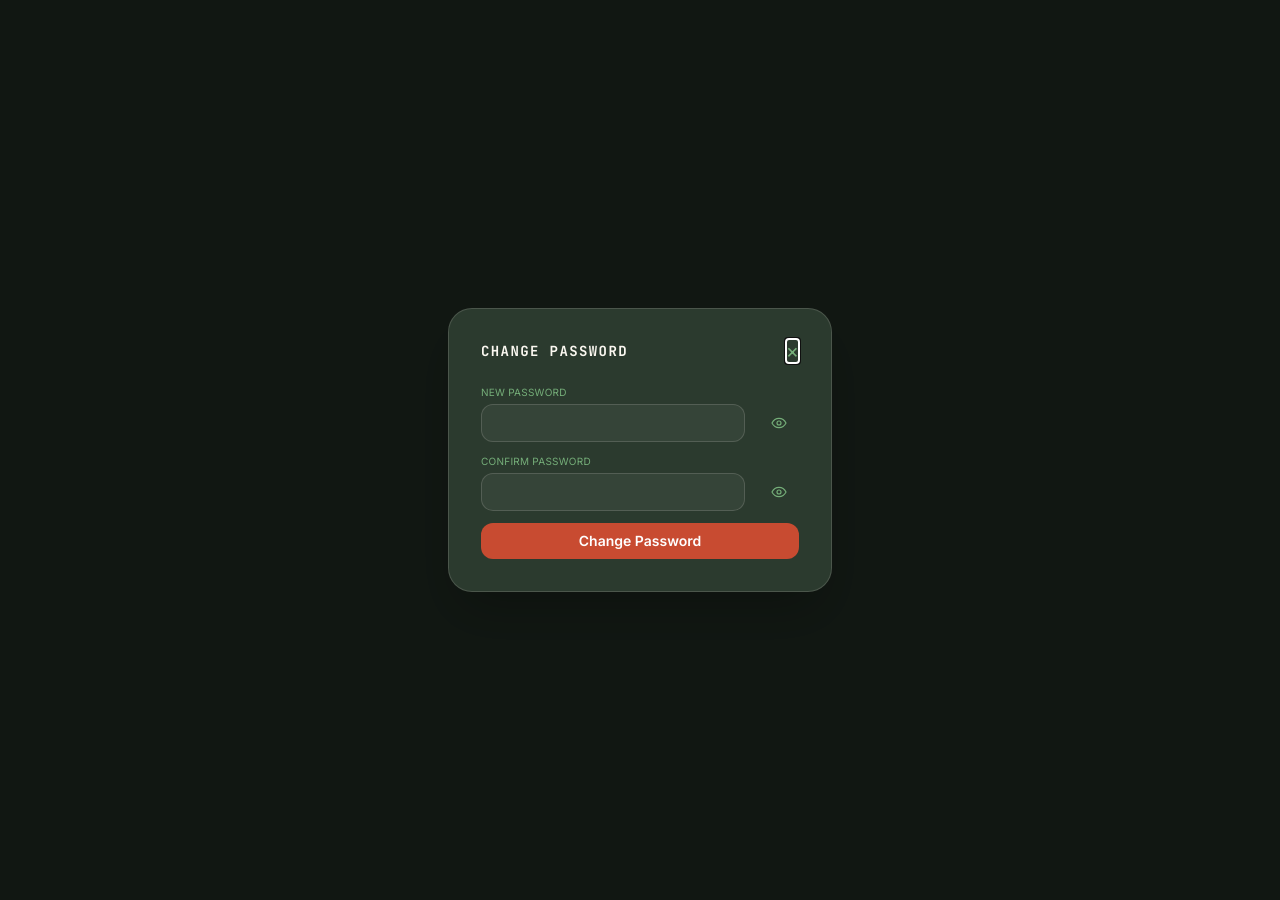
it: ChangePasswordModal › shows the error message from updatePassword on failure, without a success state
The width and height of the screenshot is (1280, 900).
Type "secret123" into the password field labelled "New password" at [613, 423], box [481, 404, 745, 442]
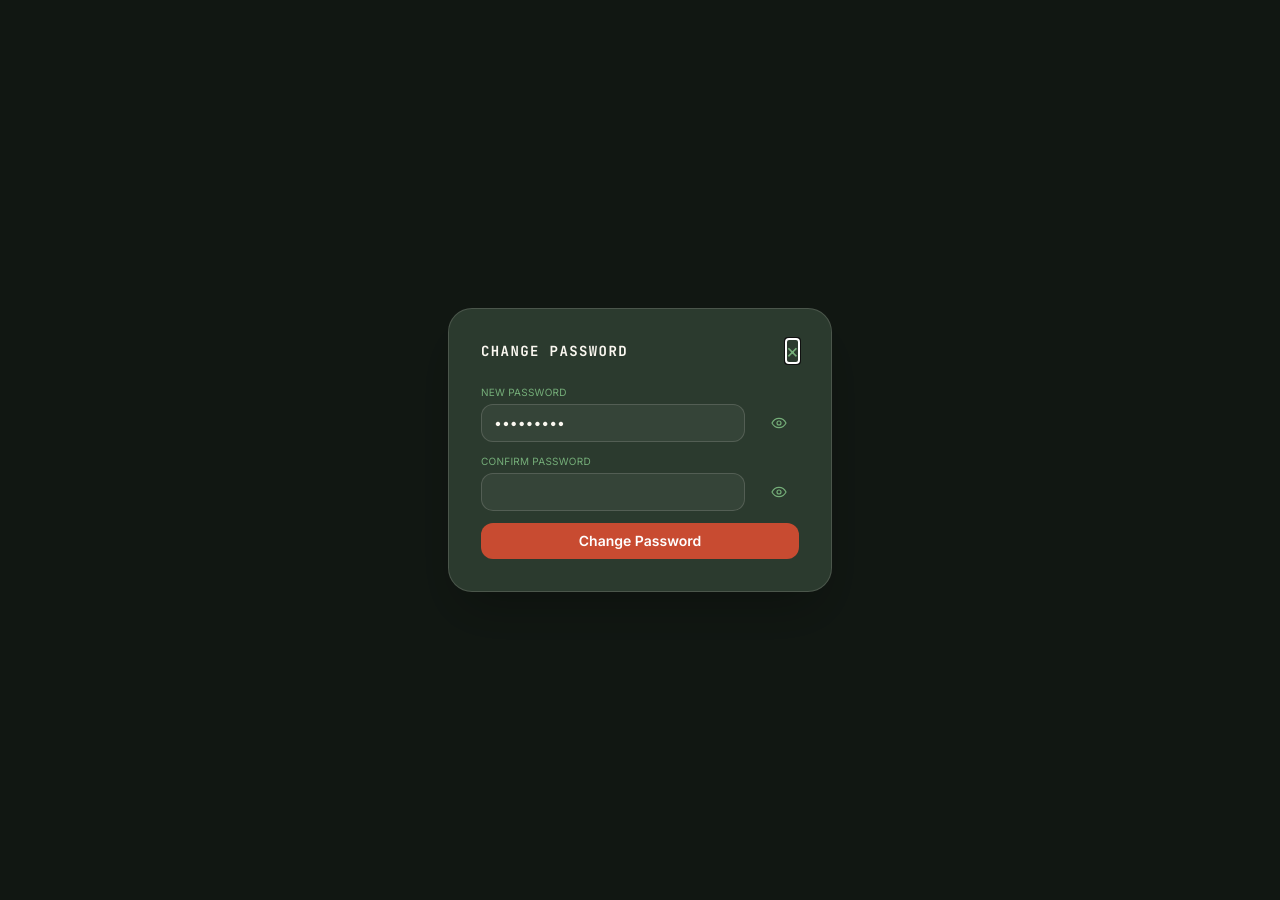
Type "secret123" into the password field labelled "Confirm password" at [613, 492], box [481, 473, 745, 511]
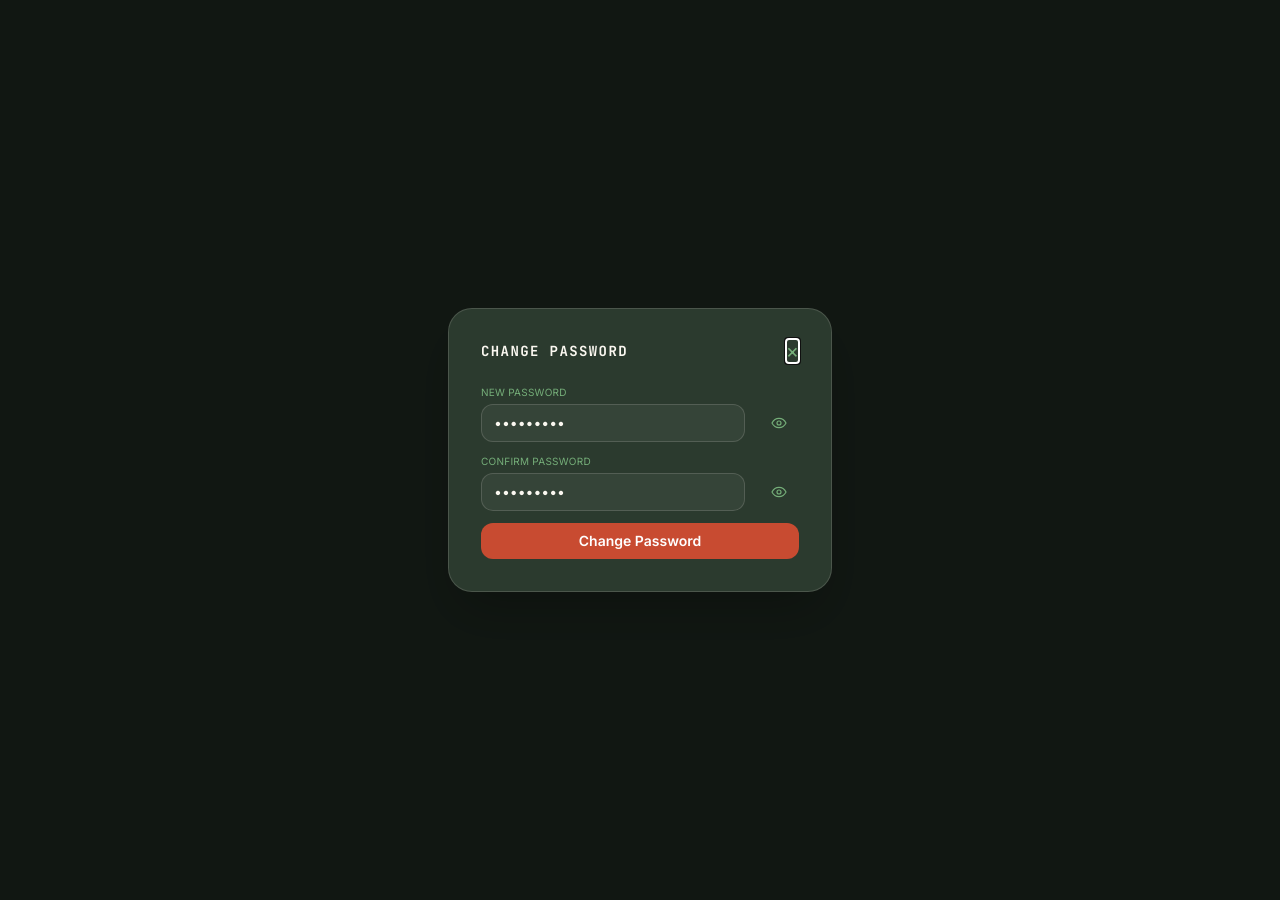
Click the button "Change Password" at [640, 541], box [481, 523, 799, 559]
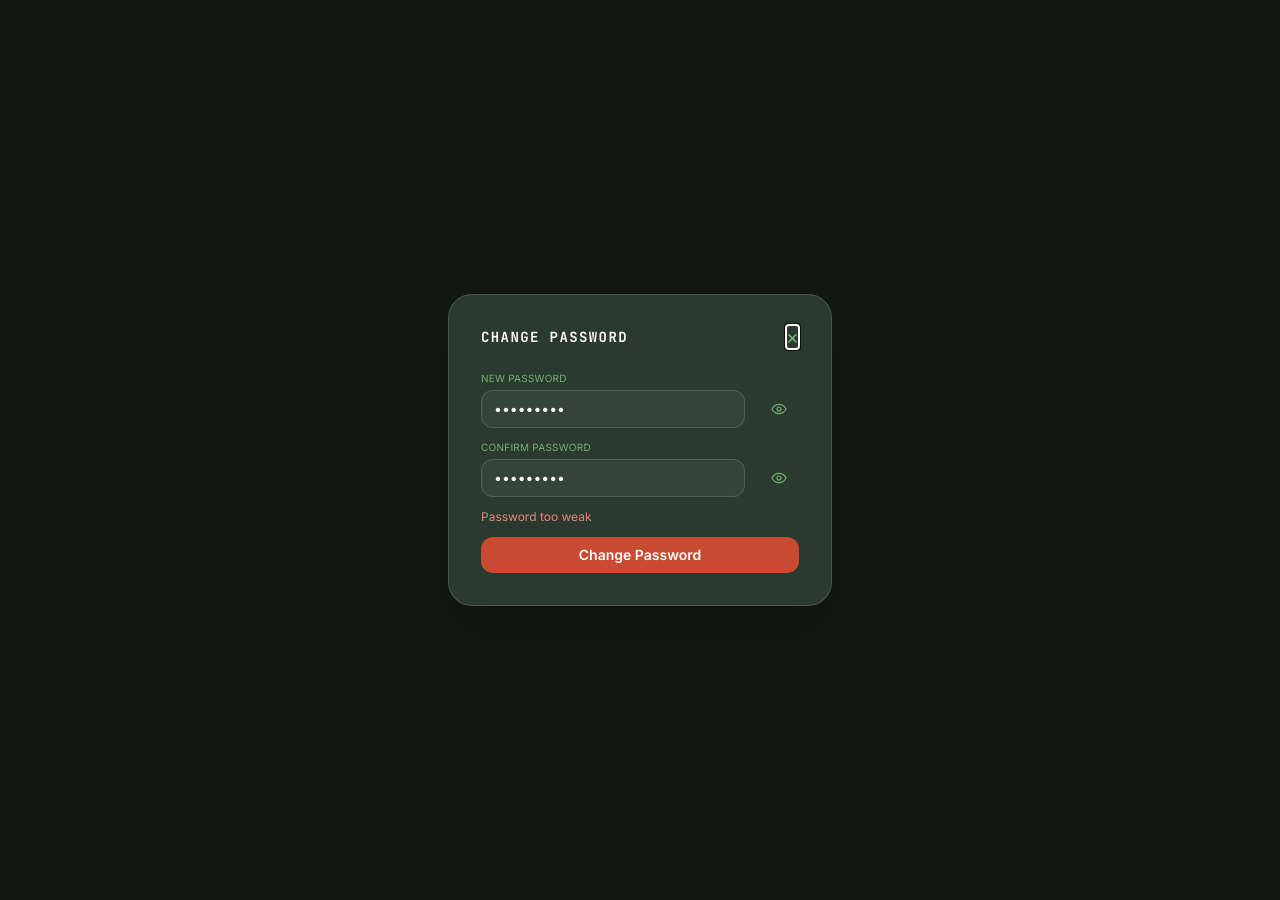
Expected: the text "Password too weak" is shown, [481, 509, 592, 524]
